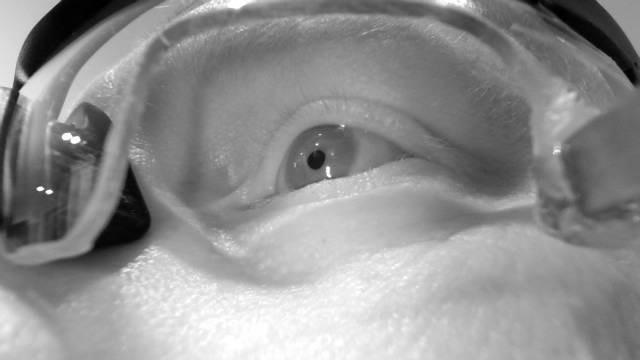pupil: (306, 149, 326, 170)
